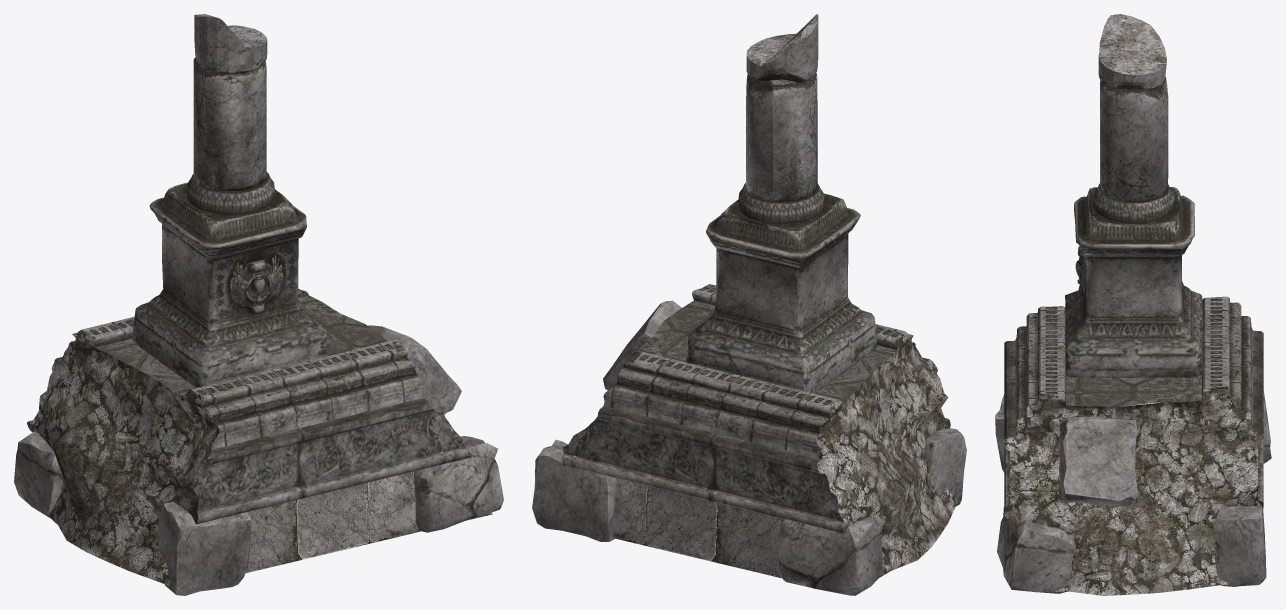
File: eso_ss1_column4_2-transformed.glb
3 renders of one model, left to right at view 1: azimuth 30°, elevation 25°; view 2: azimuth 150°, elevation 25°; view 3: azimuth 270°, elevation 25°, orthographic. The views are drawn at different scales.
Visible parts, largest first — view 1: default; view 2: default; view 3: default.
Part boxes in pixels (x1=…): default: x1=14, y1=14, x2=503, y2=595; default: x1=532, y1=14, x2=966, y2=595; default: x1=995, y1=14, x2=1271, y2=595.
Size of the model in its own units: 8.56 by 11.75 by 6.11.
7 materials, 7 textured.
